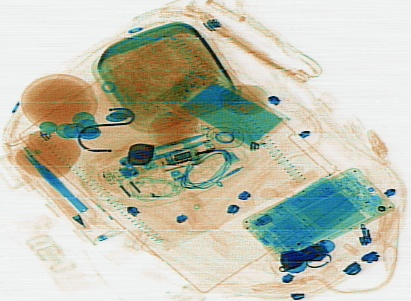scissors: (123, 131, 212, 165)
